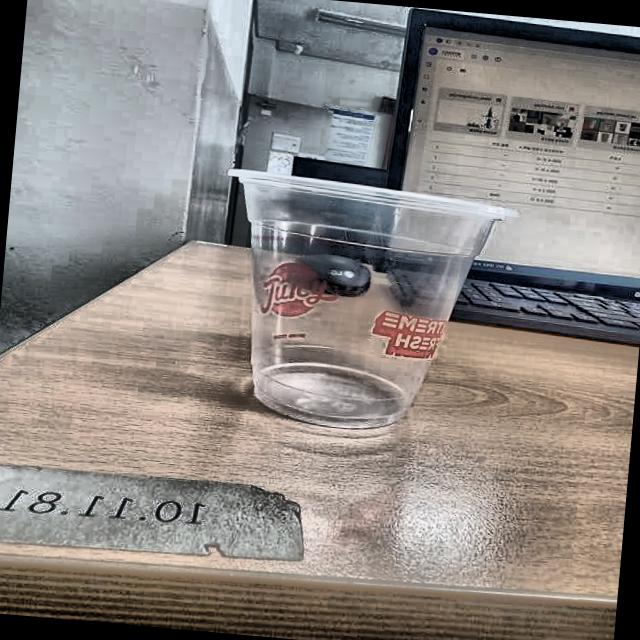plastic cup: (202, 164, 519, 440)
